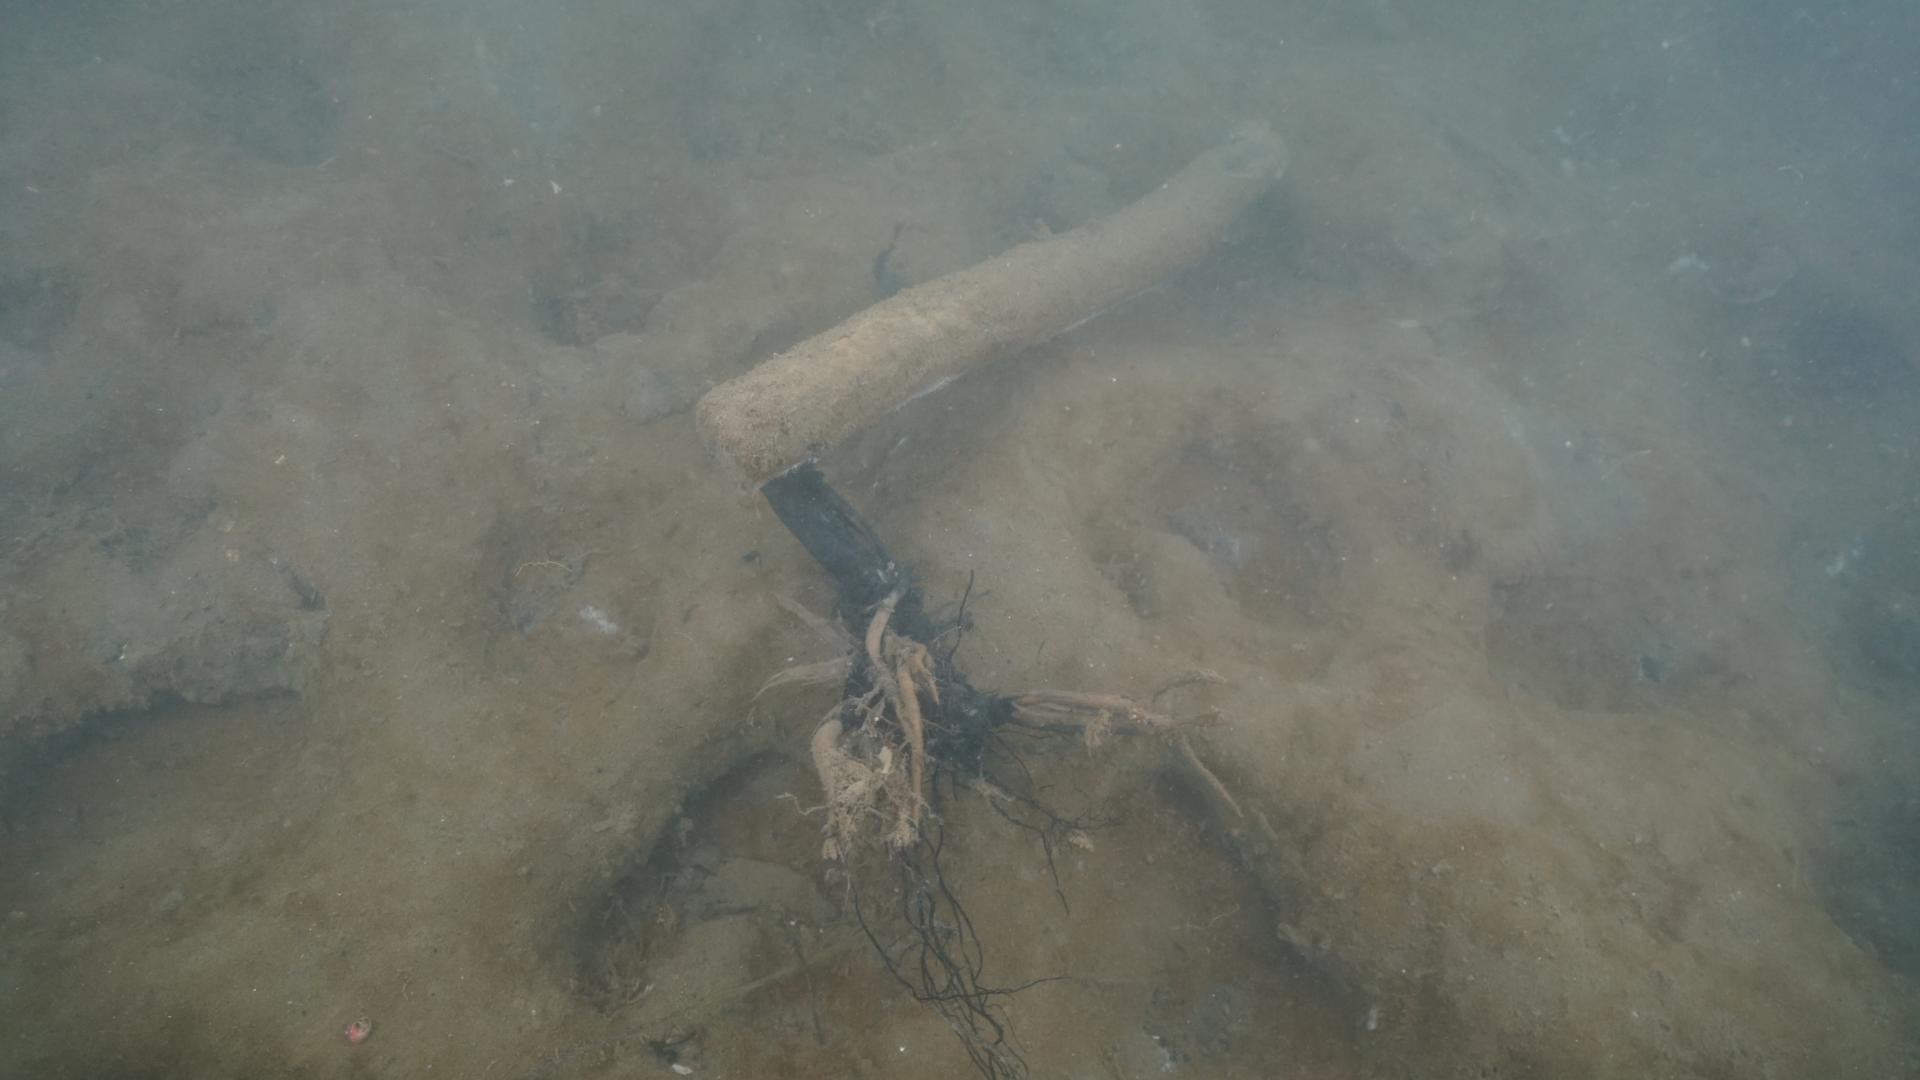wood: (692, 113, 1294, 498)
